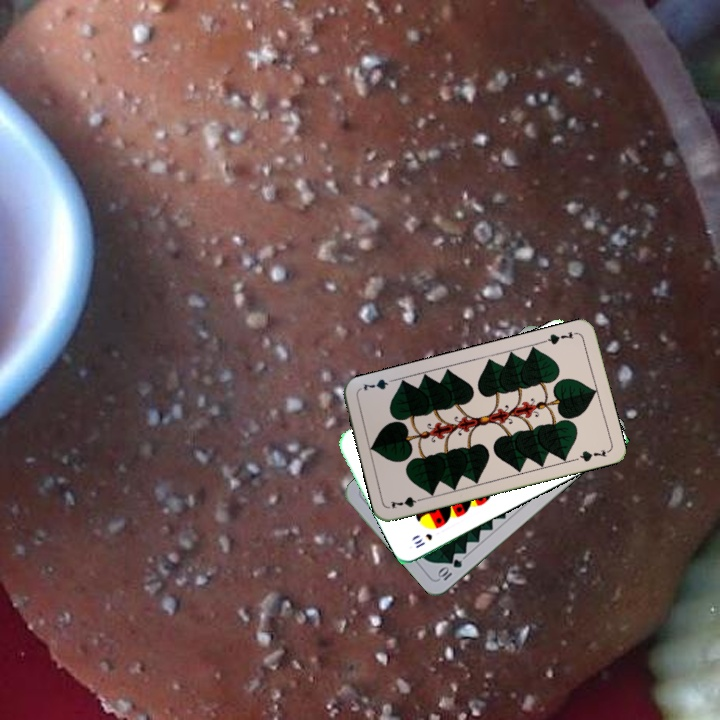G10: (434, 555, 465, 583)
G7: (539, 327, 579, 347), (387, 492, 427, 511)
S10: (410, 529, 435, 551)
